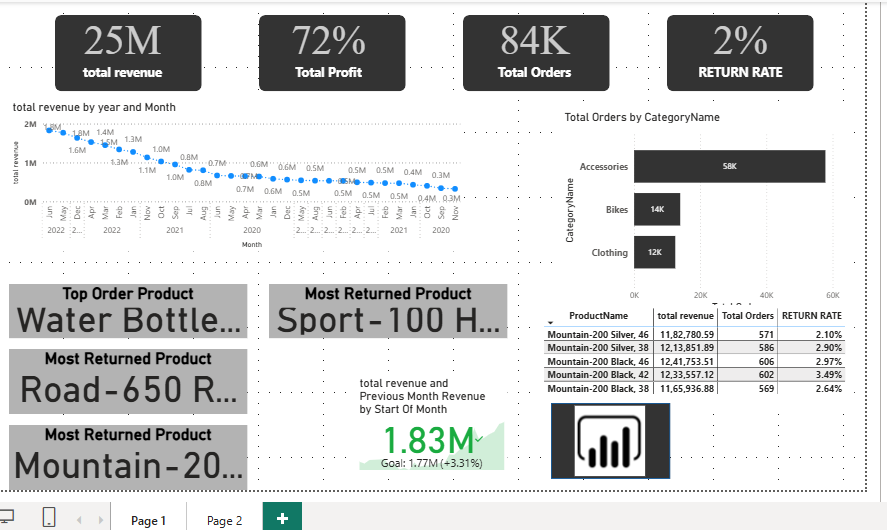

The dashboard page shown, as its layout file describes it:
{"tool":"powerbi","page":{"name":"Page 1","canvas":[1280,720],"ordinal":0},"visuals":[{"type":"shape","box":[84.9,19,216.6,112.7],"z":0},{"type":"shape","box":[987.8,19,216.6,112.7],"z":1000},{"type":"shape","box":[686.8,19,216.6,112.7],"z":2000},{"type":"shape","box":[385.9,19,216.6,112.7],"z":3000},{"type":"card","fields":{"Values":["_Measures.total revenue"]},"box":[80,0,208,128],"z":4000},{"type":"card","fields":{"Values":["_Measures.Total Profit"]},"box":[384,0,208,128],"z":5000},{"type":"card","fields":{"Values":["_Measures.Total Orders"]},"box":[688,0,208,128],"z":6000},{"type":"card","fields":{"Values":["_Measures.RETURN RATE"]},"box":[992,0,208,128],"z":7000},{"type":"lineChart","fields":{"Category":["Calendar Lookup.year","Calendar Lookup.Month"],"Y":["_Measures.total revenue"]},"box":[16,144,672,224],"z":8000},{"type":"clusteredBarChart","fields":{"Category":["Product Categories.CategoryName"],"Y":["_Measures.Total Orders"]},"box":[832,160,432,304],"z":9000},{"type":"tableEx","fields":{"Values":["Product Lookup.ProductName","_Measures.total revenue","_Measures.Total Orders","_Measures.RETURN RATE"]},"box":[800,448,464,160],"z":10000},{"type":"card","title":"Top Order Product","fields":{"Values":["Min(Product Lookup.ProductName)"]},"box":[16,416,352,80],"z":11000},{"type":"card","title":"Most Returned Product","fields":{"Values":["Min(Product Lookup.ProductName)"]},"box":[16,512,352,96],"z":12000},{"type":"kpi","fields":{"Indicator":["_Measures.total revenue"],"TrendLine":["Calendar Lookup.Start Of Month"],"Goal":["_Measures.Previous Month Revenue"]},"box":[528,552,224,144],"z":13000},{"type":"shape","box":[816,592,176,112],"z":14000},{"type":"actionButton","box":[848,592,128,112],"z":15000},{"type":"card","title":"Most Returned Product","fields":{"Values":["Min(Product Lookup.ProductName)"]},"box":[400,416,352,80],"z":16000},{"type":"card","title":"Most Returned Product","fields":{"Values":["Min(Product Lookup.ProductName)"]},"box":[16,624,352,96],"z":17000}]}

Visuals, with their boxes on the page's 1280x720 design canvas (x1, y1, x2, y2). These are canvas units, not pixel positions in the 887x530 screenshot, which may show the page scaled, cropped or inside an application window:
shape: (85, 19, 302, 132)
shape: (988, 19, 1204, 132)
shape: (687, 19, 903, 132)
shape: (386, 19, 602, 132)
card - _Measures.total revenue: (80, 0, 288, 128)
card - _Measures.Total Profit: (384, 0, 592, 128)
card - _Measures.Total Orders: (688, 0, 896, 128)
card - _Measures.RETURN RATE: (992, 0, 1200, 128)
lineChart - Calendar Lookup.year x Calendar Lookup.Month: (16, 144, 688, 368)
clusteredBarChart - Product Categories.CategoryName x _Measures.Total Orders: (832, 160, 1264, 464)
tableEx - Product Lookup.ProductName x _Measures.total revenue: (800, 448, 1264, 608)
"Top Order Product" card: (16, 416, 368, 496)
"Most Returned Product" card: (16, 512, 368, 608)
kpi - _Measures.total revenue x Calendar Lookup.Start Of Month: (528, 552, 752, 696)
shape: (816, 592, 992, 704)
actionButton: (848, 592, 976, 704)
"Most Returned Product" card: (400, 416, 752, 496)
"Most Returned Product" card: (16, 624, 368, 720)
